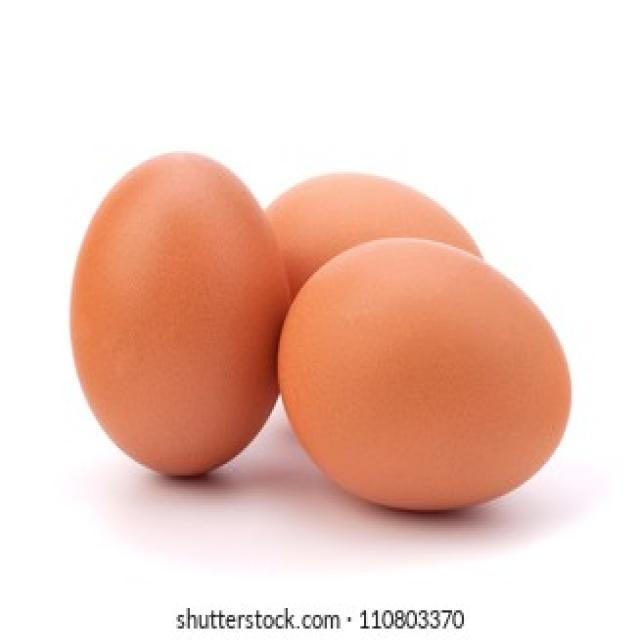Brown Egg: (276, 238, 573, 518), (62, 146, 286, 487)
